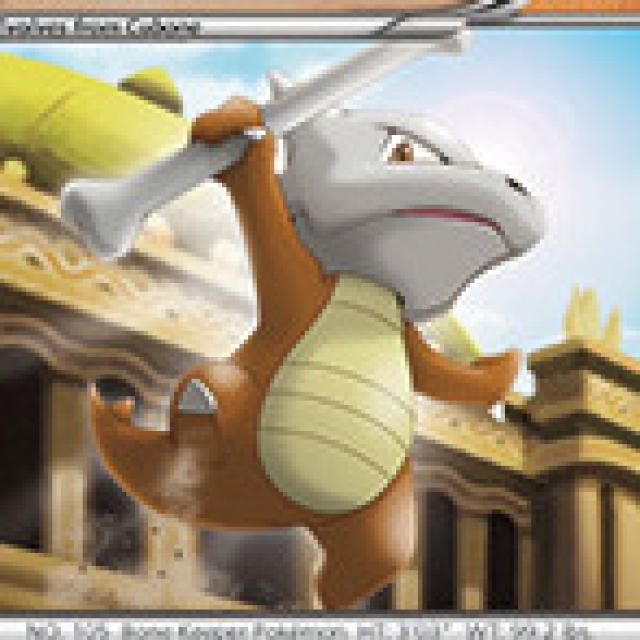Marowak: (112, 110, 547, 524)
